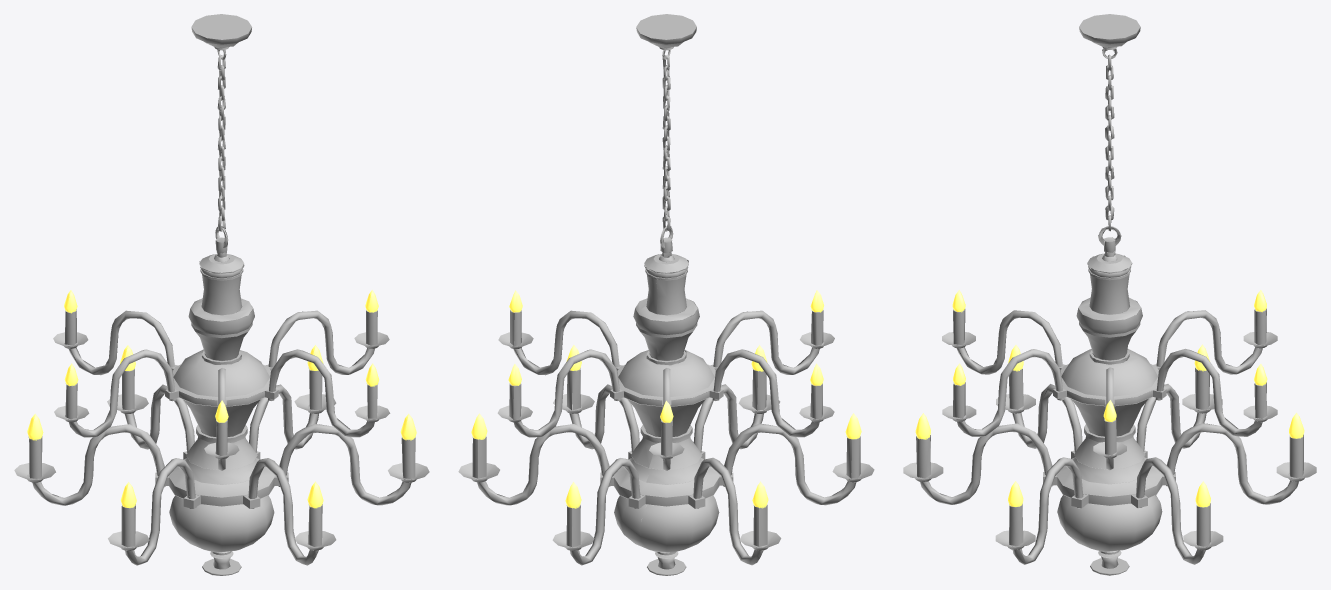
The picture shows the model from 3 angles, left to right: view 1: azimuth 30°, elevation 25°; view 2: azimuth 150°, elevation 25°; view 3: azimuth 270°, elevation 25°; orthographic projection.
Visible parts, largest first — view 1: chandelier:pTorus9polySurface24; view 2: chandelier:pTorus9polySurface24; view 3: chandelier:pTorus9polySurface24.
Boxes of the visible parts, x1,y1,x2,y2 form: chandelier:pTorus9polySurface24: (14,14,429,575); chandelier:pTorus9polySurface24: (458,14,874,575); chandelier:pTorus9polySurface24: (903,14,1316,575).
Bounding box in the file's own units: 5741 × 9010 × 6202.
